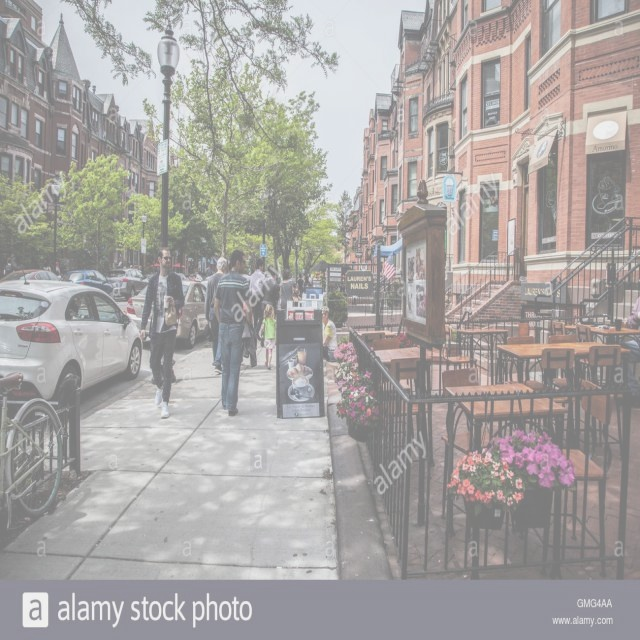pessoa: (138, 246, 186, 421), (213, 248, 253, 414), (204, 256, 228, 368), (397, 246, 427, 322), (620, 296, 640, 396), (248, 258, 267, 342), (259, 264, 278, 347), (260, 303, 276, 370), (320, 306, 338, 362), (279, 268, 295, 310), (186, 260, 213, 282), (290, 271, 312, 295), (114, 258, 143, 276), (270, 270, 282, 308), (296, 272, 305, 298), (3, 257, 16, 275), (302, 276, 312, 294), (292, 288, 302, 302), (52, 262, 61, 276), (42, 260, 52, 272), (42, 264, 52, 274), (206, 263, 212, 279), (308, 274, 312, 284)
